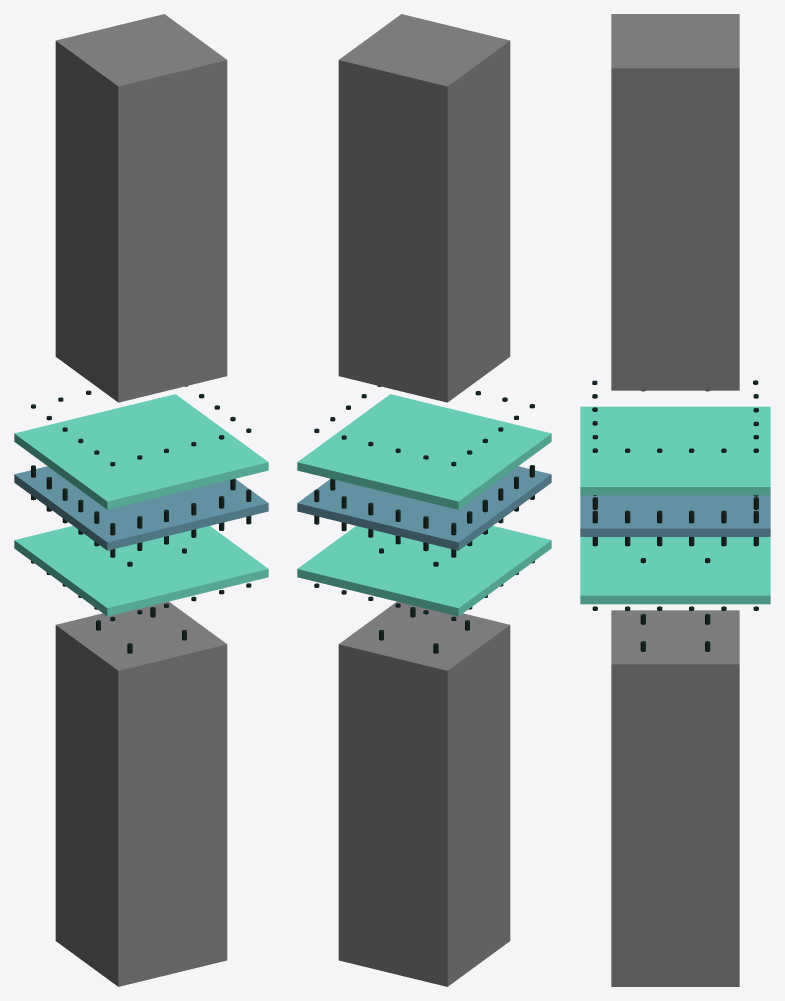
The model's file is koreancolumnblend1.glb.
The picture shows the model from 3 angles, left to right: view 1: azimuth 30°, elevation 25°; view 2: azimuth 150°, elevation 25°; view 3: azimuth 270°, elevation 25°; orthographic projection. The views are drawn at different scales.
Visible parts, largest first — view 1: Cube.002, Cube.001, Cube.004, Cube.005, Cube.003, Cube.006; view 2: Cube.002, Cube.001, Cube.004, Cube.005, Cube.003, Cube.006; view 3: Cube.002, Cube.001, Cube.004, Cube.005, Cube.003, Cube.006.
Boxes of the visible parts, x1,y1,x2,y2 form: Cube.002: (55, 14, 227, 402); Cube.001: (55, 601, 227, 986); Cube.004: (14, 394, 268, 509); Cube.005: (14, 526, 268, 616); Cube.003: (14, 466, 268, 550); Cube.006: (31, 386, 251, 621); Cube.002: (338, 14, 510, 402); Cube.001: (338, 601, 510, 986); Cube.004: (297, 394, 551, 509); Cube.005: (297, 526, 551, 616); Cube.003: (297, 466, 551, 550); Cube.006: (314, 385, 534, 620); Cube.002: (611, 14, 739, 390); Cube.001: (611, 610, 739, 986); Cube.004: (580, 406, 770, 495); Cube.005: (580, 537, 770, 604); Cube.003: (580, 495, 770, 536); Cube.006: (592, 380, 758, 610).
Bounding box in the file's own units: 2.96 × 15.8 × 2.96.
